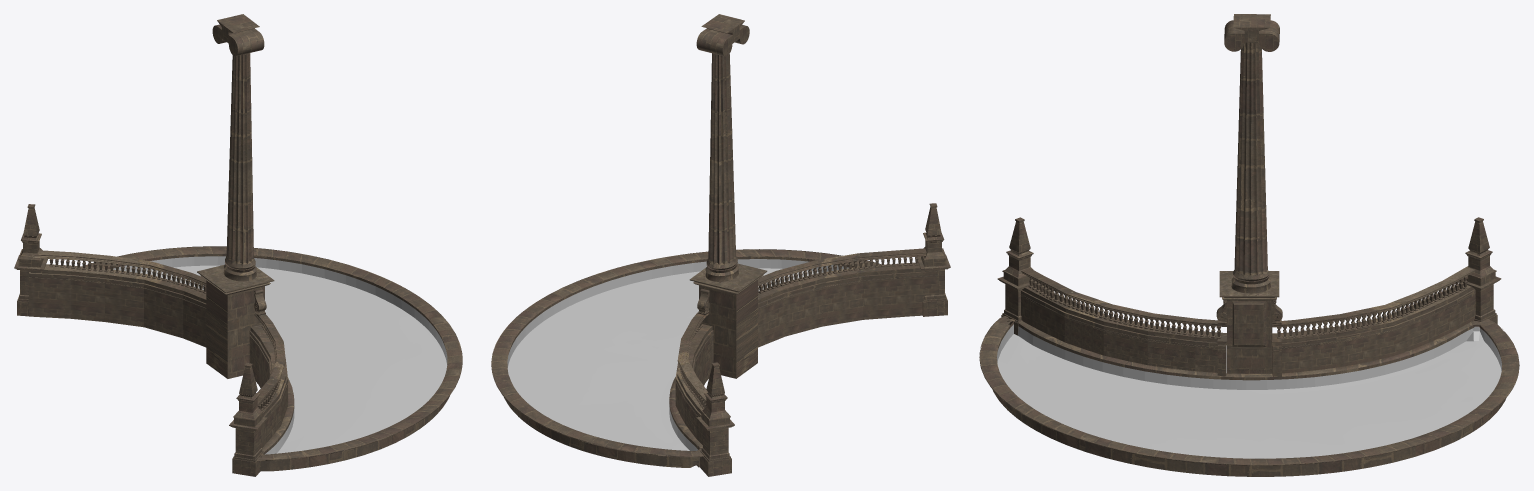
The model's file is Fuente.fbx.
3 views of the same model, side by side, from view 1: azimuth 30°, elevation 25°; view 2: azimuth 150°, elevation 25°; view 3: azimuth 270°, elevation 25° (orthographic). The views are drawn at different scales.
Visible parts, largest first — view 1: Puenteh, Pared, Pilars, Tope, LosFokinPilarsitos; view 2: Puenteh, Pared, Pilars, Tope, LosFokinPilarsitos; view 3: Puenteh, Pared, Pilars, LosFokinPilarsitos, Tope.
Boxes of the visible parts, <box> form: Puenteh: <box>85,246,462,471</box>; Pared: <box>14,204,288,476</box>; Pilars: <box>223,53,256,281</box>; Tope: <box>212,14,264,56</box>; LosFokinPilarsitos: <box>49,259,281,410</box>; Puenteh: <box>491,249,880,467</box>; Pared: <box>675,203,950,476</box>; Pilars: <box>705,53,738,281</box>; Tope: <box>696,14,749,56</box>; LosFokinPilarsitos: <box>679,257,918,409</box>; Puenteh: <box>979,316,1519,476</box>; Pared: <box>997,217,1501,376</box>; Pilars: <box>1231,42,1270,293</box>; LosFokinPilarsitos: <box>1028,276,1467,338</box>; Tope: <box>1224,14,1279,51</box>.
Bounding box in the file's own units: 1663 × 1762 × 2383.
